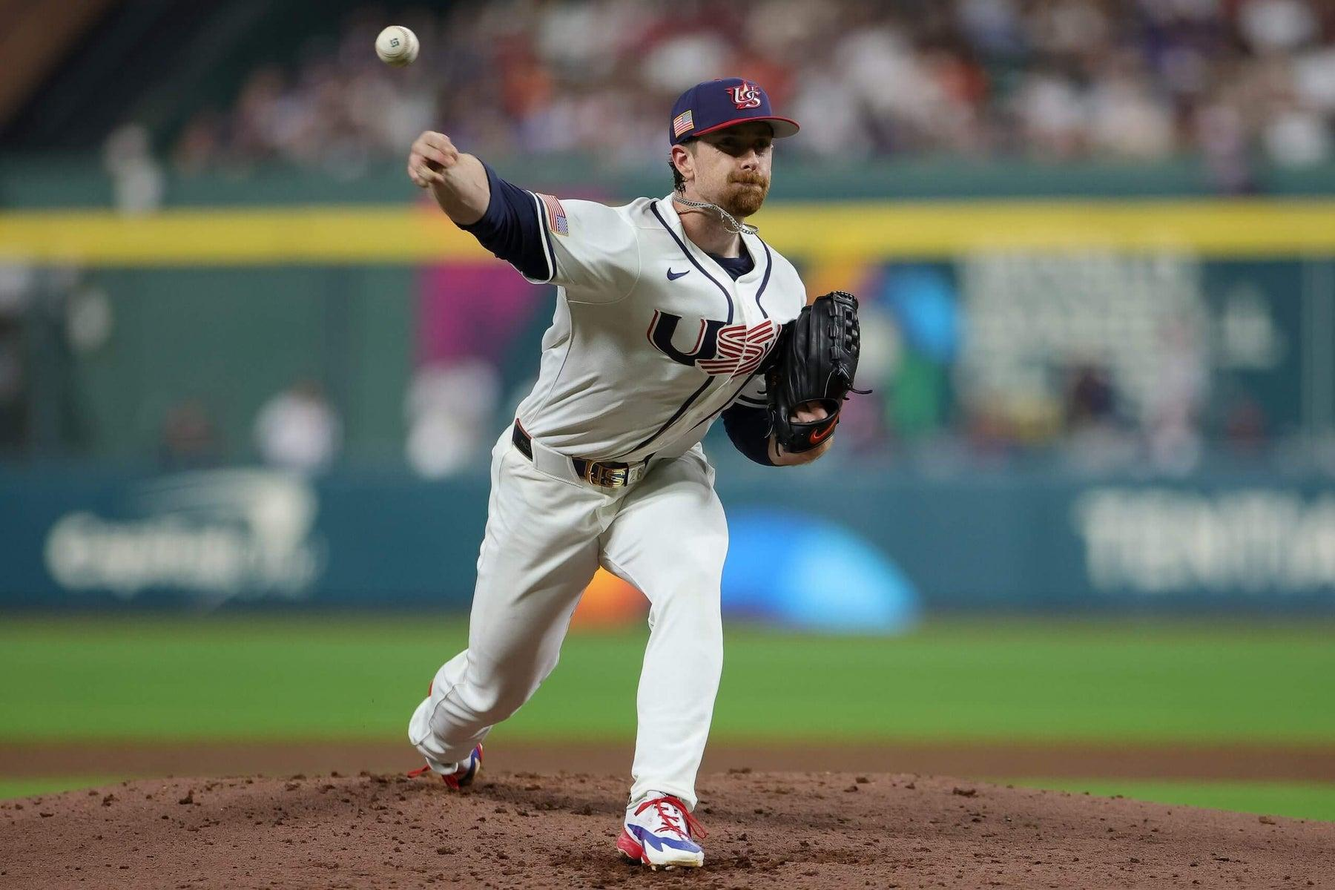baseball: (375, 23, 422, 64)
